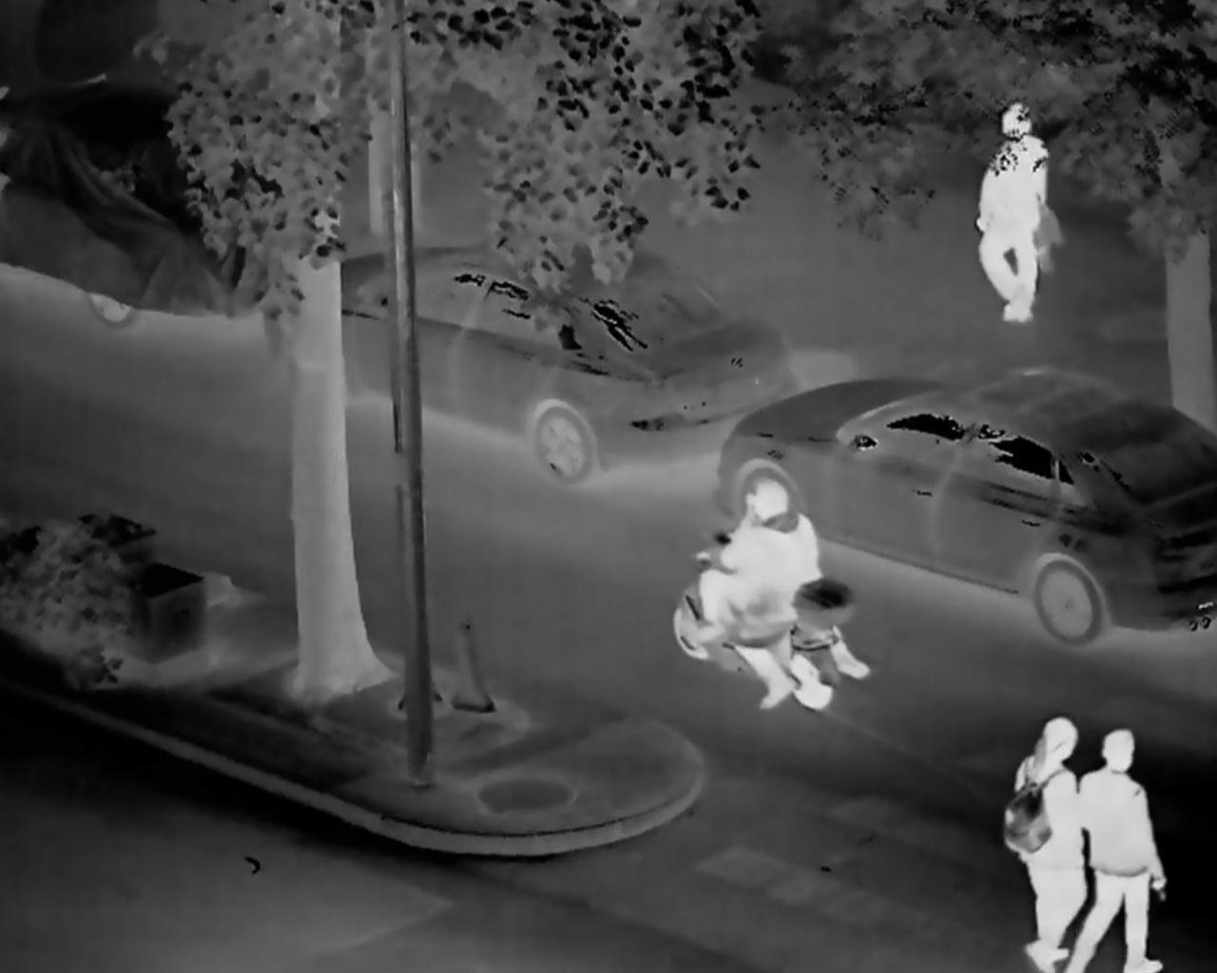person: (692, 456, 818, 684), (993, 710, 1086, 973), (1083, 728, 1173, 973), (968, 97, 1059, 330)
